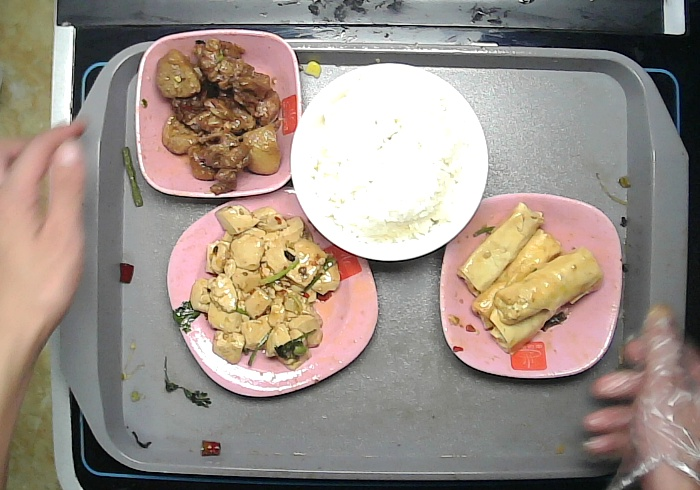SHKJ-Fan_Wan: (291, 61, 488, 264)
SHKJ-Fen_Se_Cai_Die: (439, 193, 625, 383)
SHKJ-Fen_Se_Si_Fang_Cai_Die: (166, 185, 379, 399)
SHKJ-Fen_Se_Xiao_Fang_Die: (133, 30, 303, 199)
